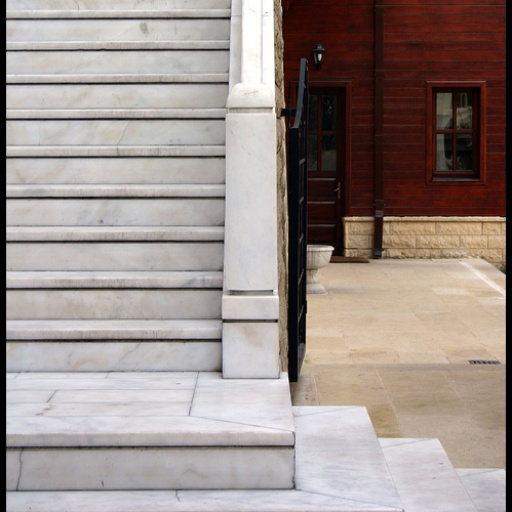Stairs: (8, 0, 230, 371)
